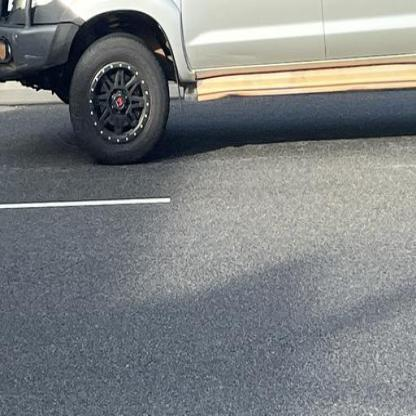Tire: (70, 33, 170, 164)
